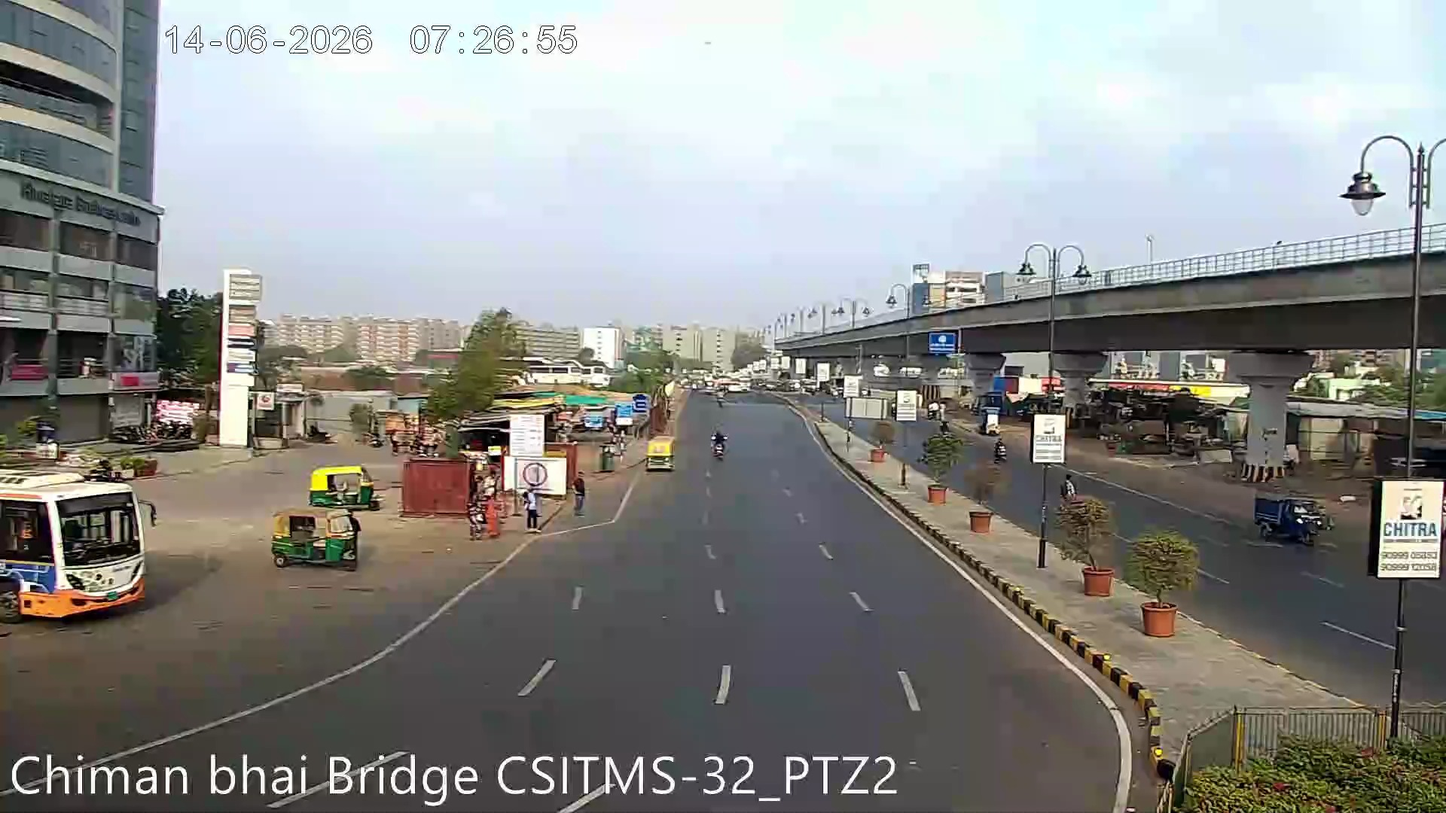auto_rickshaw: (267, 502, 362, 570), (1250, 486, 1328, 545), (306, 458, 380, 509), (644, 434, 677, 471)
bus: (0, 459, 164, 618)
pedestrian: (523, 487, 552, 534), (569, 468, 590, 520), (521, 488, 544, 534)
two_wheeler: (707, 423, 730, 463), (990, 432, 1010, 466)
